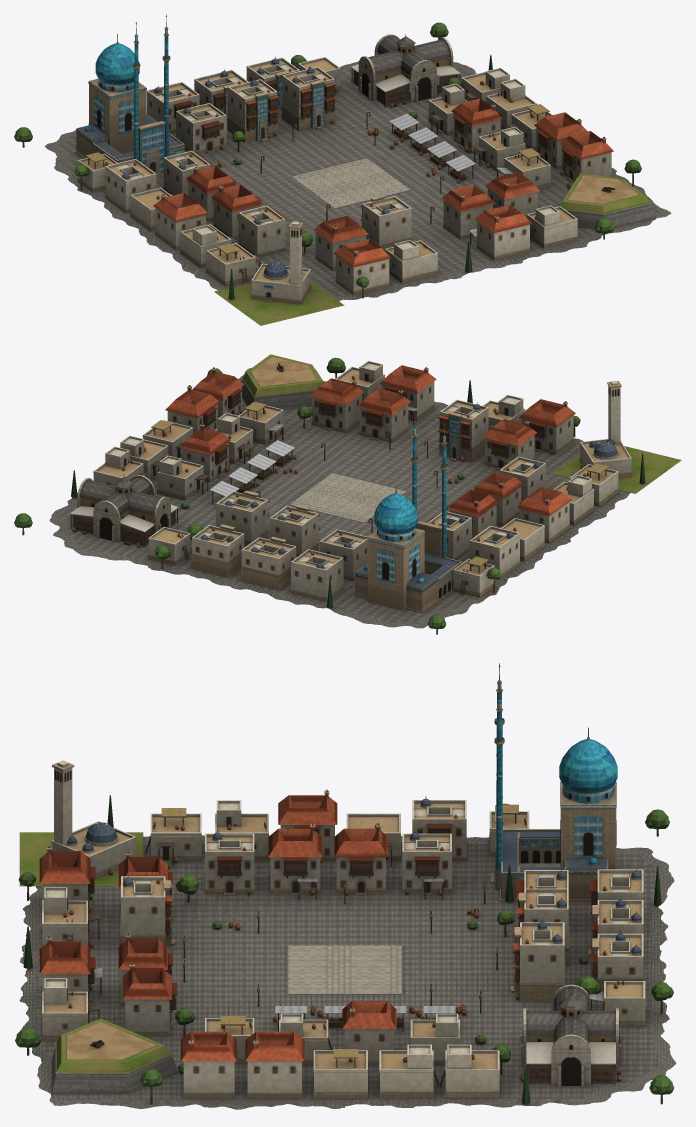
File: gunpowder-town-big-a-levant.glb
The picture shows the model from 3 angles, top to bottom: view 1: azimuth 30°, elevation 25°; view 2: azimuth 150°, elevation 25°; view 3: azimuth 270°, elevation 25°; orthographic projection. The views are drawn at different scales.
Parts seen in each view (by area): view 1: LOD0; view 2: LOD0; view 3: LOD0.
Part boxes in pixels (x1,y1,x2,y2): LOD0: [14, 14, 671, 325]; LOD0: [14, 354, 681, 634]; LOD0: [15, 663, 676, 1109].
Size of what is drawn, in the model's own units: 8.05 by 2.8 by 8.12.
Materials: 3 (3 with a texture image).
